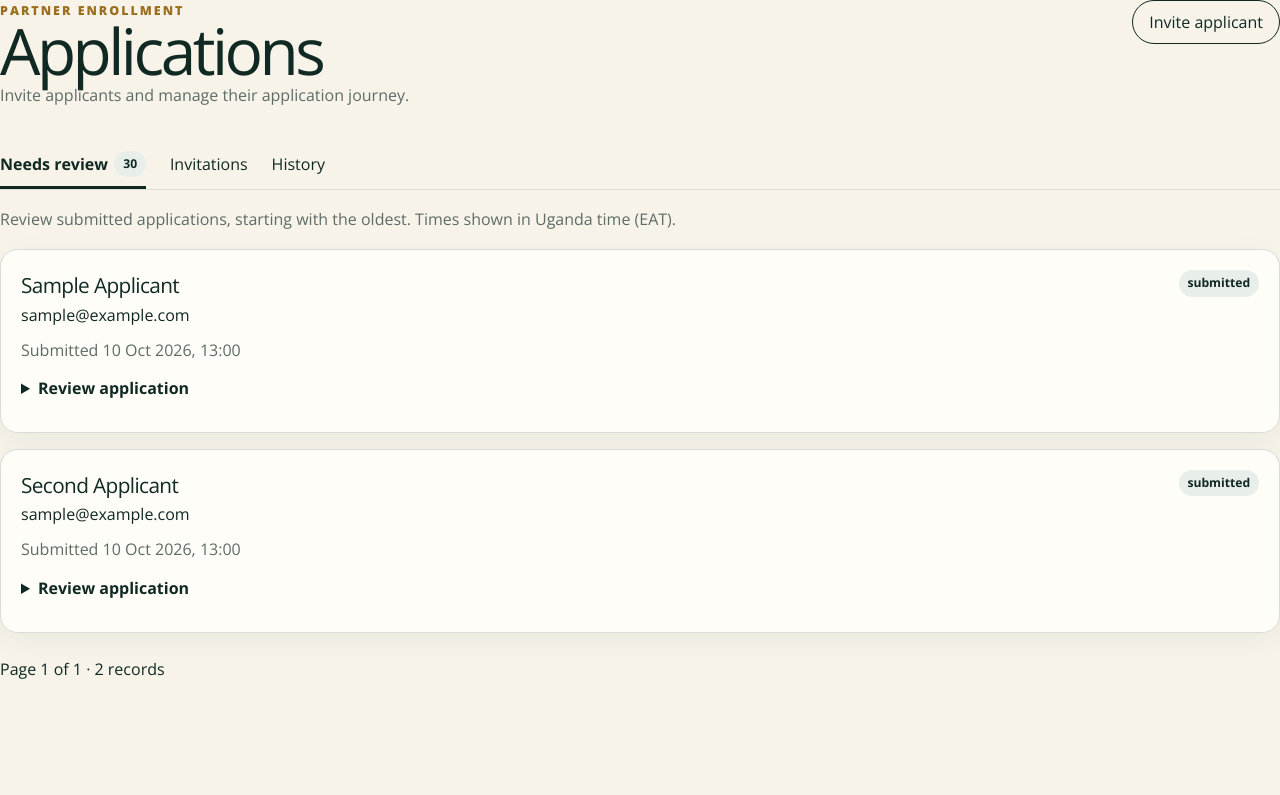
combined applications workspace › focuses the expanded invite form and retains the email on failure
Expected: the field labelled "Email address" is not shown
Click the button "Invite applicant" at (1206, 22), box [1132, 0, 1279, 44]
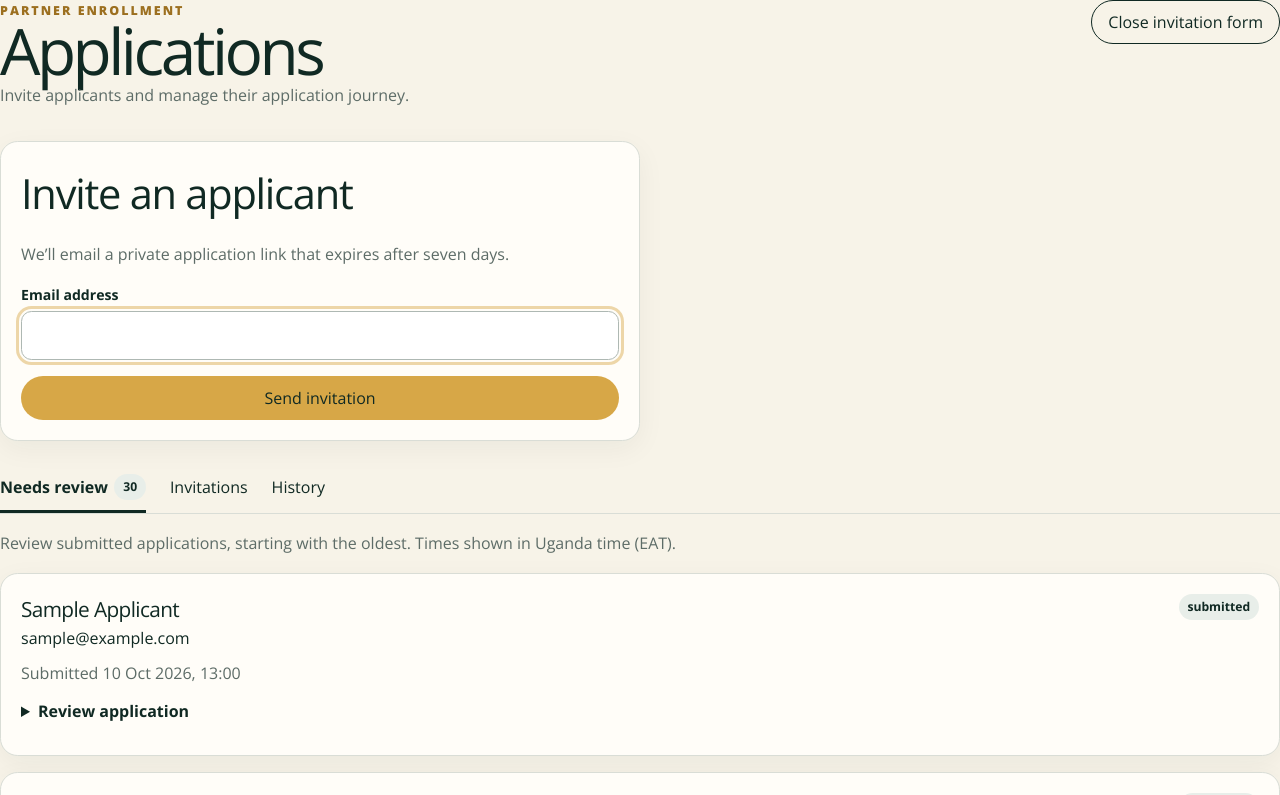
Type "invite@example.com" into the field labelled "Email address" at (320, 336), box [21, 311, 619, 360]
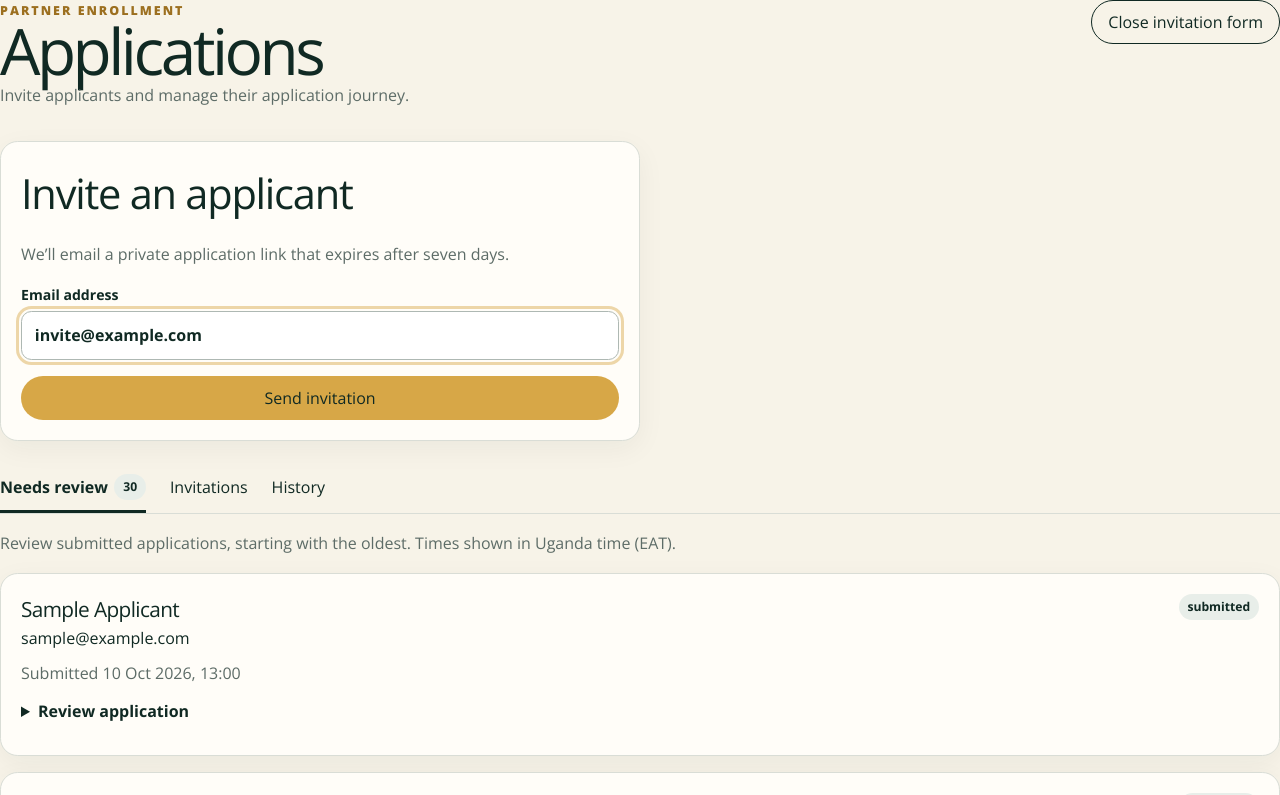
Click the button "Send invitation" at (320, 398), box [21, 376, 619, 420]
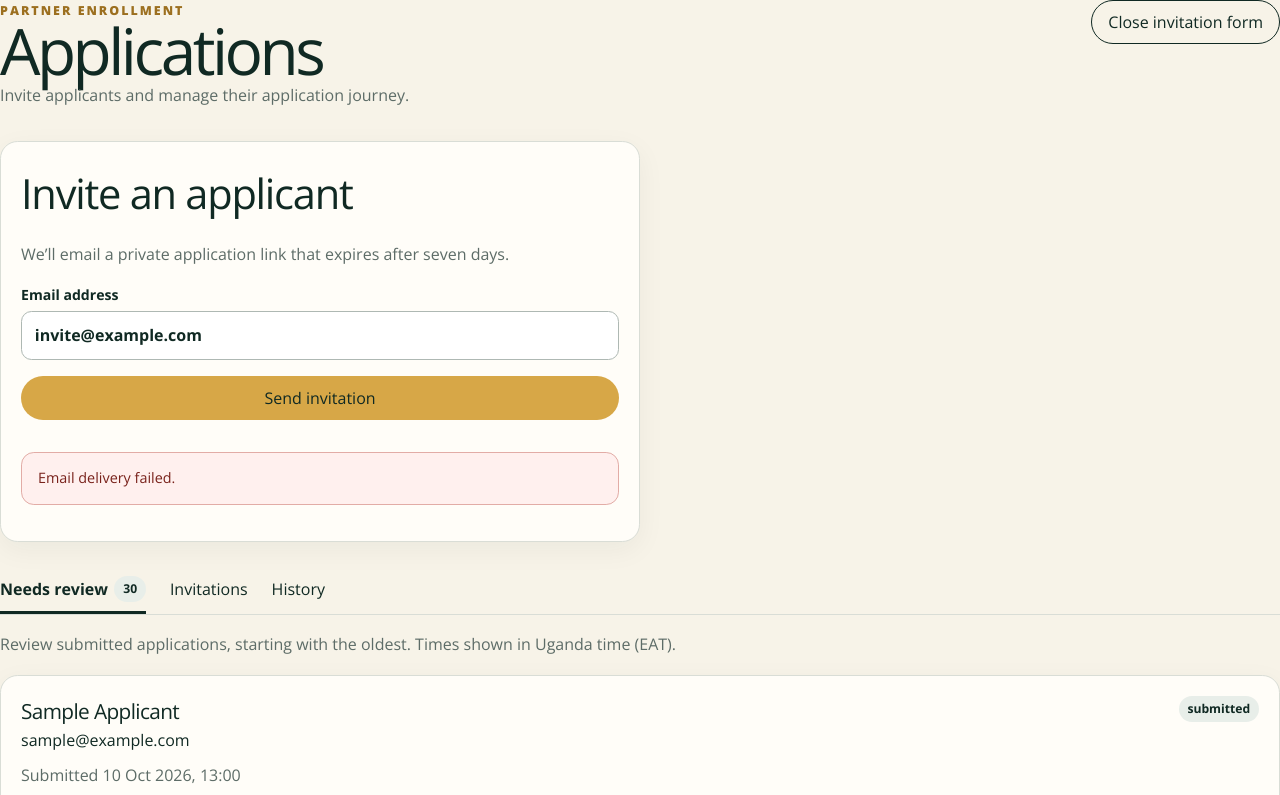
Now the message reads "Email delivery failed.", box [38, 468, 175, 487]
Click the button "Send invitation" at (320, 398), box [21, 376, 619, 420]
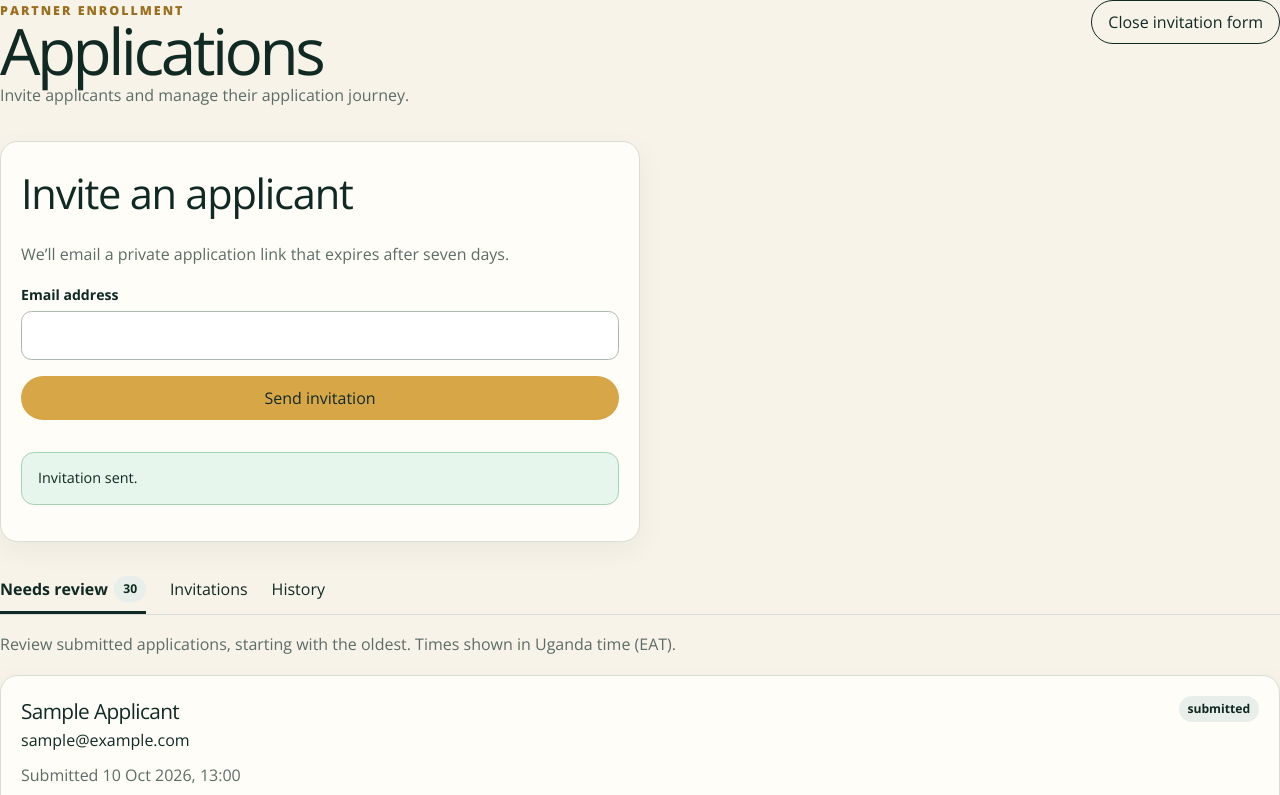
Now the message reads "Invitation sent.", box [38, 468, 138, 487]
Now the field labelled "Email address" is empty, box [21, 311, 619, 360]
